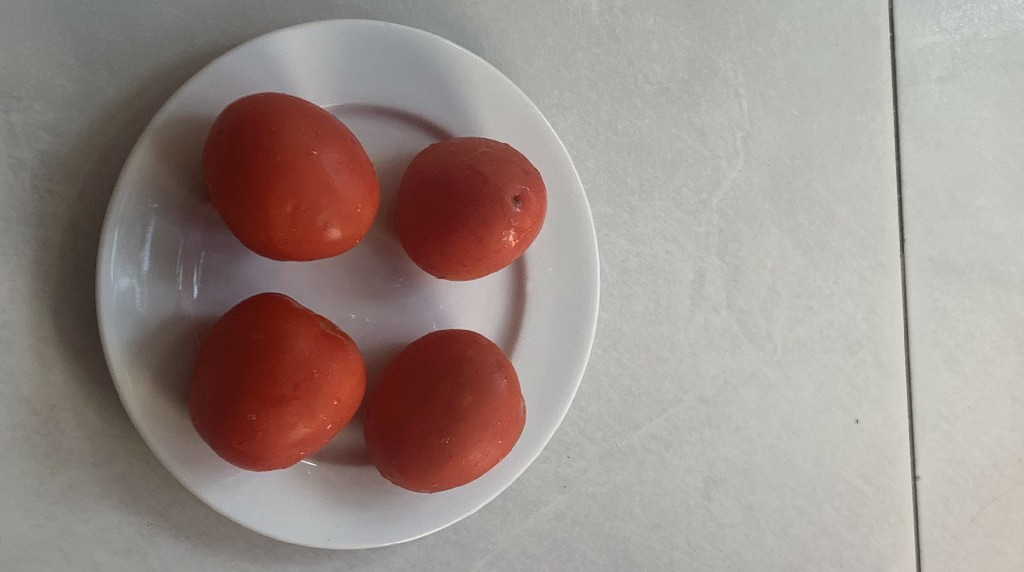OK: (186, 283, 372, 481), (195, 87, 388, 259), (361, 315, 538, 496), (382, 120, 548, 292)
